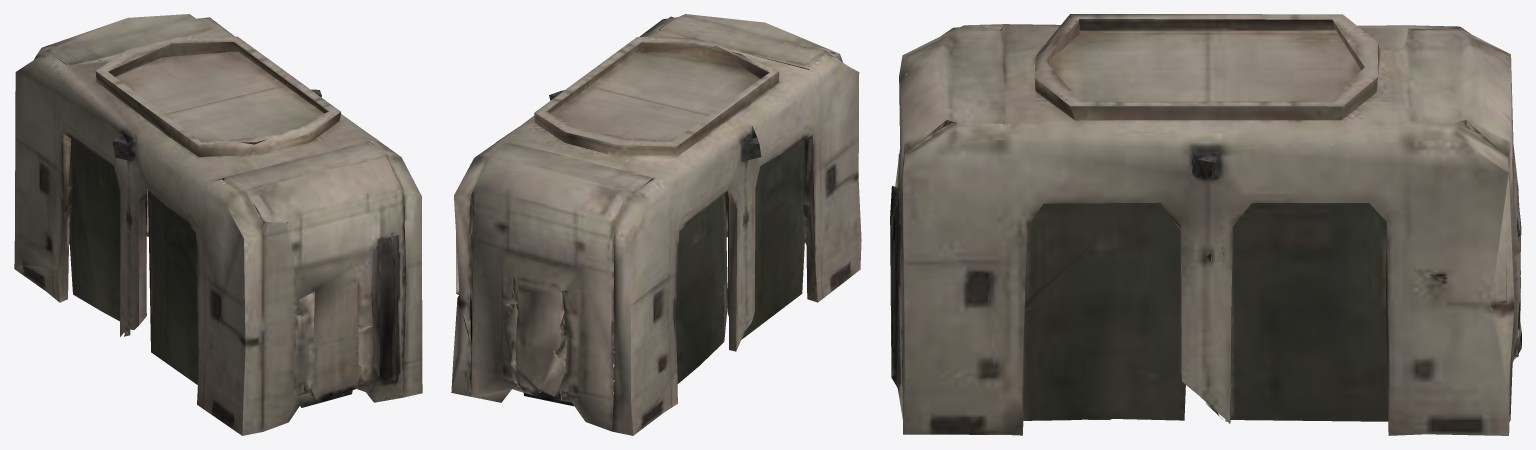
Rendered from barracks_1278772040_lod0.glb.
3 views of the same model, side by side, from view 1: azimuth 30°, elevation 25°; view 2: azimuth 150°, elevation 25°; view 3: azimuth 270°, elevation 25° (orthographic). The views are drawn at different scales.
Bounding box in the file's own units: 7.05 × 7.77 × 13.97.
Materials: 1 (1 with a texture image).
